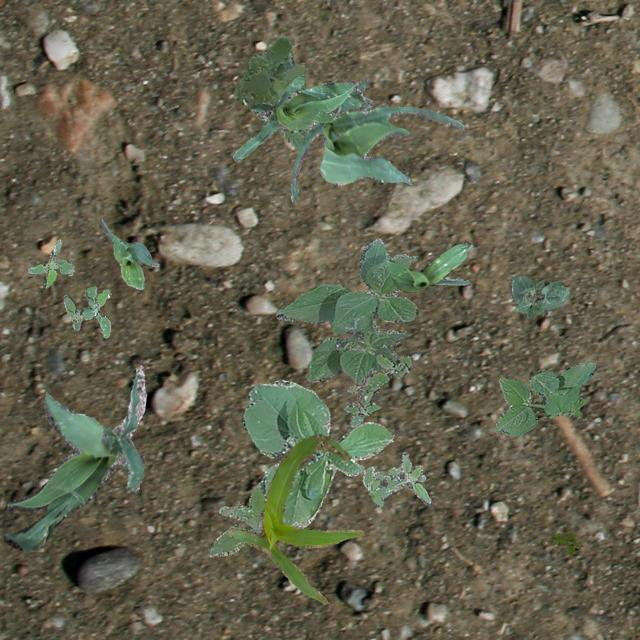crop: (2, 364, 146, 550), (228, 432, 362, 604), (240, 378, 392, 528), (290, 76, 463, 202), (276, 238, 416, 382), (232, 76, 372, 160), (385, 240, 471, 292), (100, 218, 158, 288), (509, 274, 568, 318)
weed: (232, 36, 304, 146), (492, 360, 596, 434), (342, 354, 410, 426), (208, 480, 264, 556), (362, 450, 432, 506), (62, 286, 110, 336), (26, 238, 74, 288), (550, 530, 580, 554)
